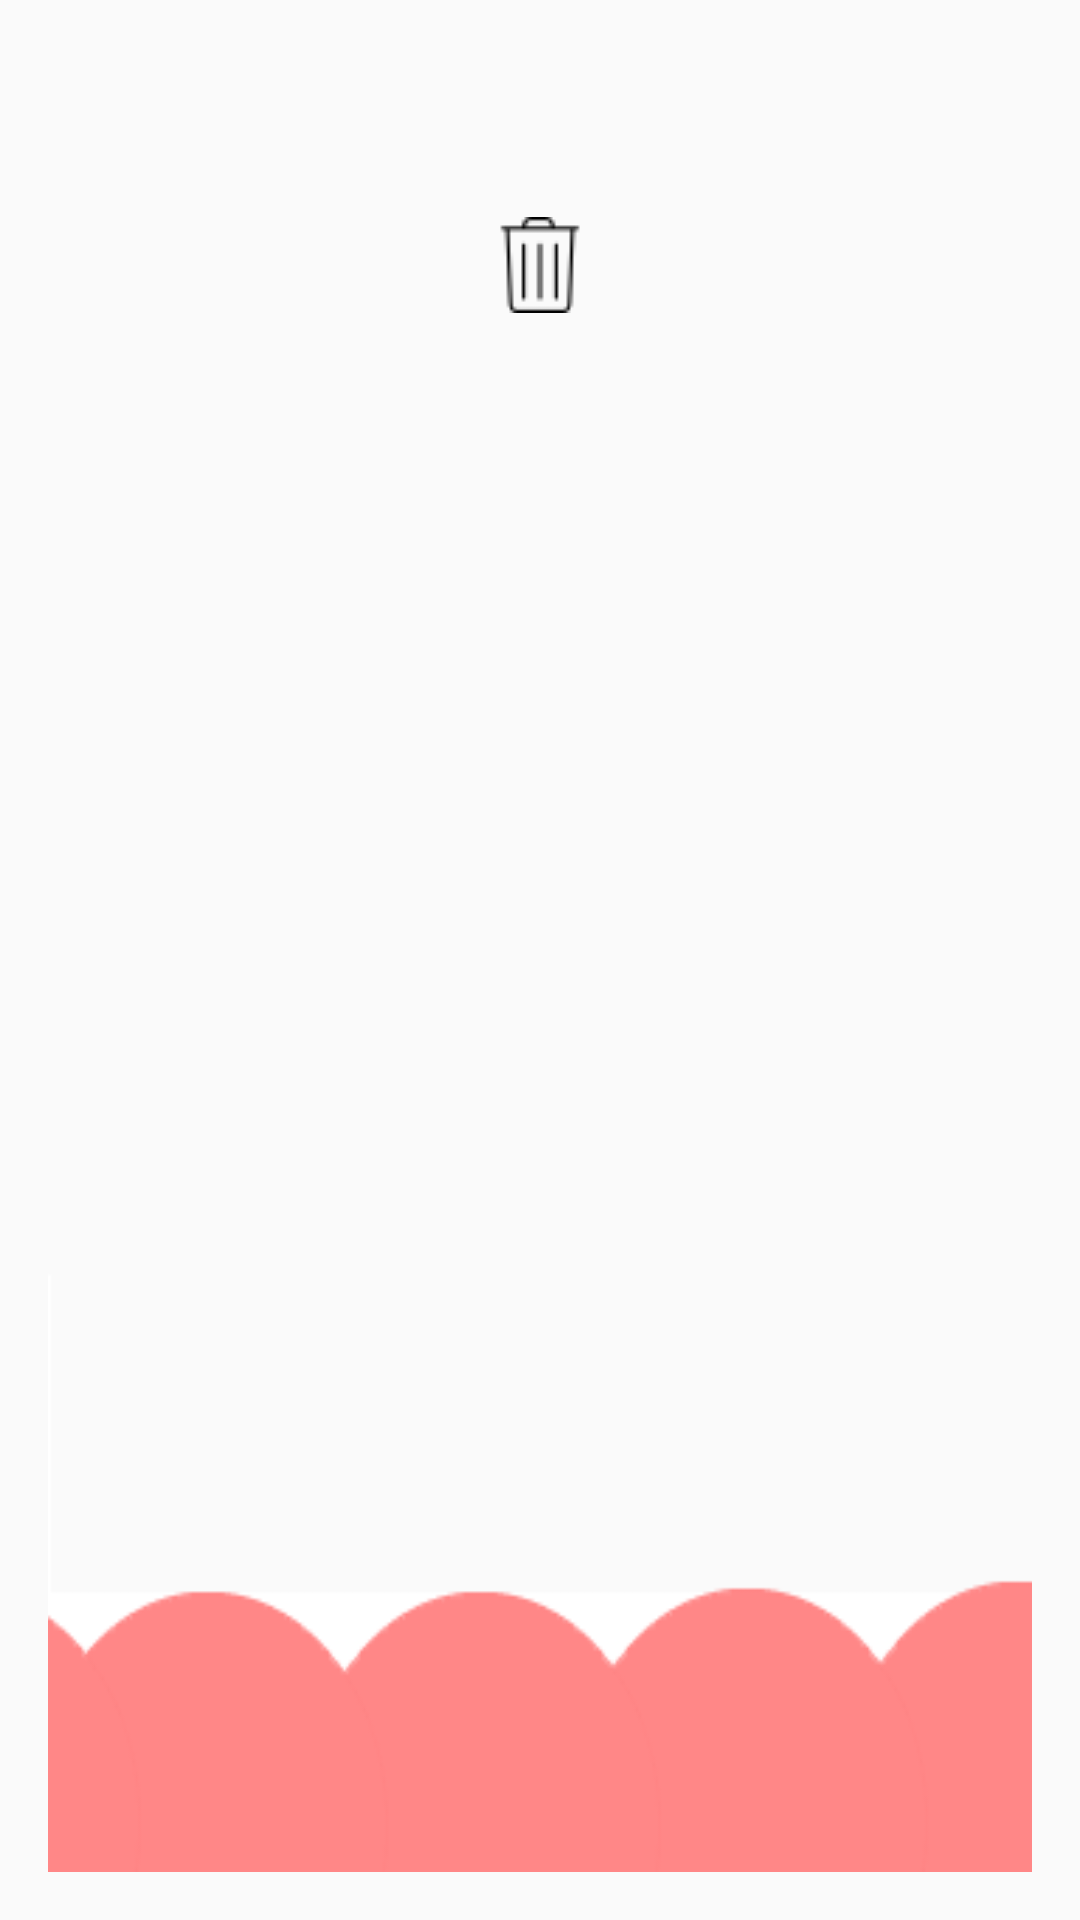

Point at icon controls on the screen. Image size 1080 x 1920, points as point (x, y).
garbage: point (540, 265)
